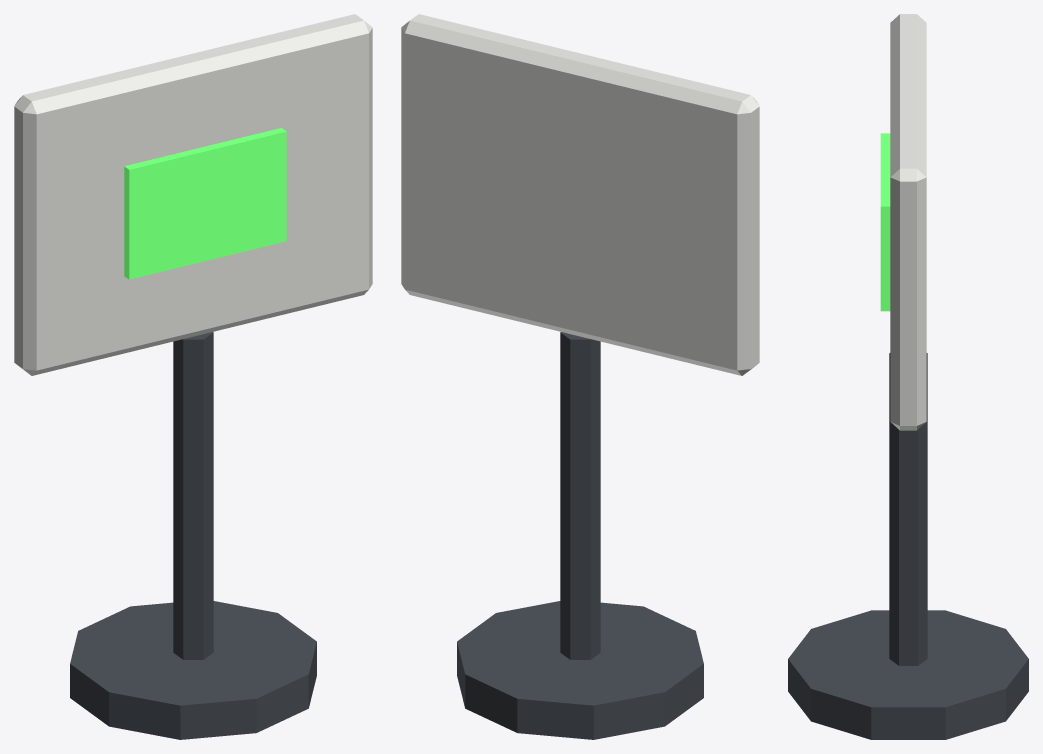
File: prop_quickreply_p0.glb
3 renders of one model, left to right at view 1: azimuth 30°, elevation 25°; view 2: azimuth 150°, elevation 25°; view 3: azimuth 270°, elevation 25°, orthographic. The views are drawn at different scales.
Parts seen in each view (by area): view 1: prop_quickreply_p0_mesh; view 2: prop_quickreply_p0_mesh; view 3: prop_quickreply_p0_mesh.
Part boxes in pixels (x1,y1,x2,y2): prop_quickreply_p0_mesh: (14,14,372,739); prop_quickreply_p0_mesh: (401,14,759,739); prop_quickreply_p0_mesh: (788,14,1028,739).
Size of the model in its own units: 0.16 by 0.275 by 0.1.
